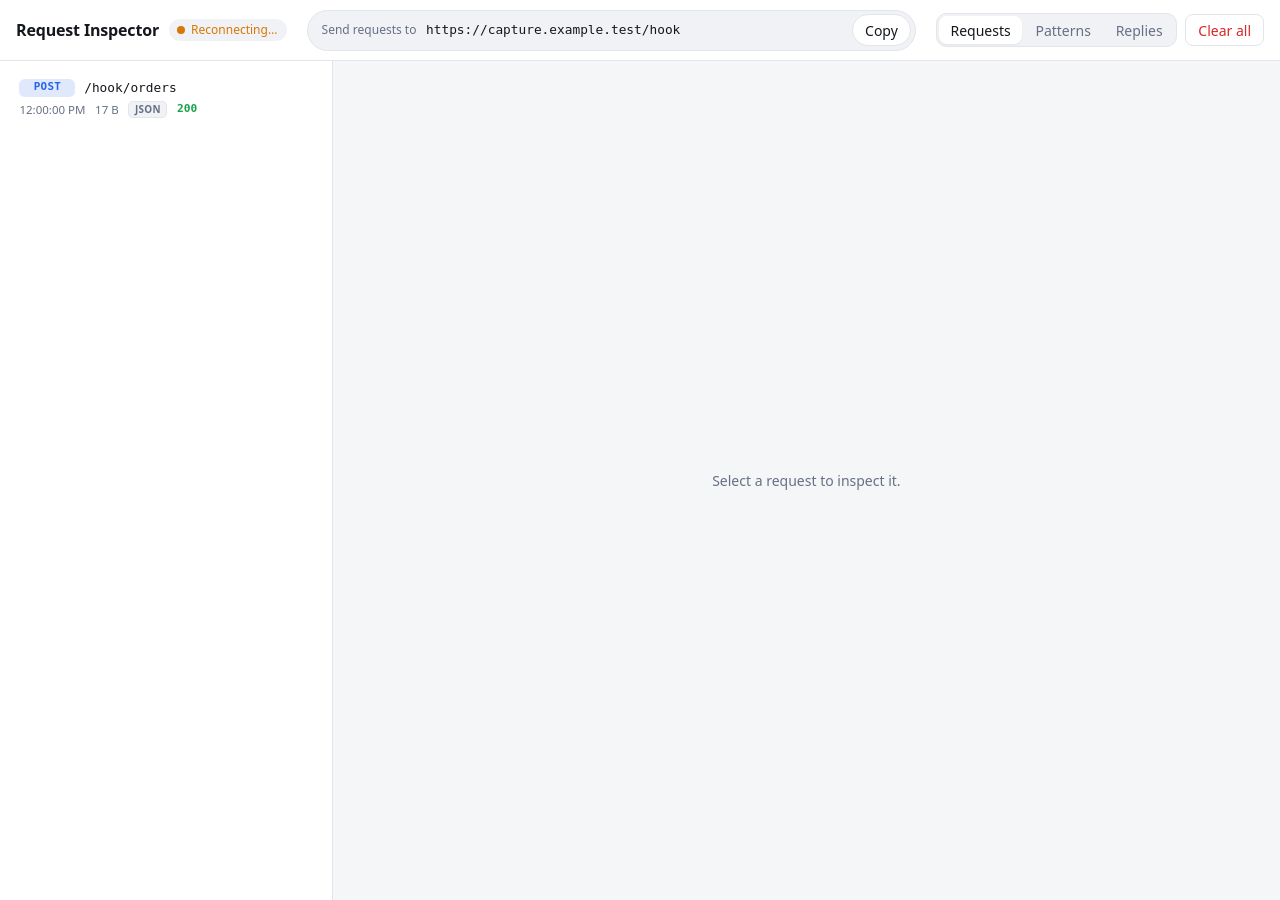
request list and detail › shows headers, query parameters and the body of the selected request
Click the text "/hook/orders": (130, 88) [84,78,177,97]
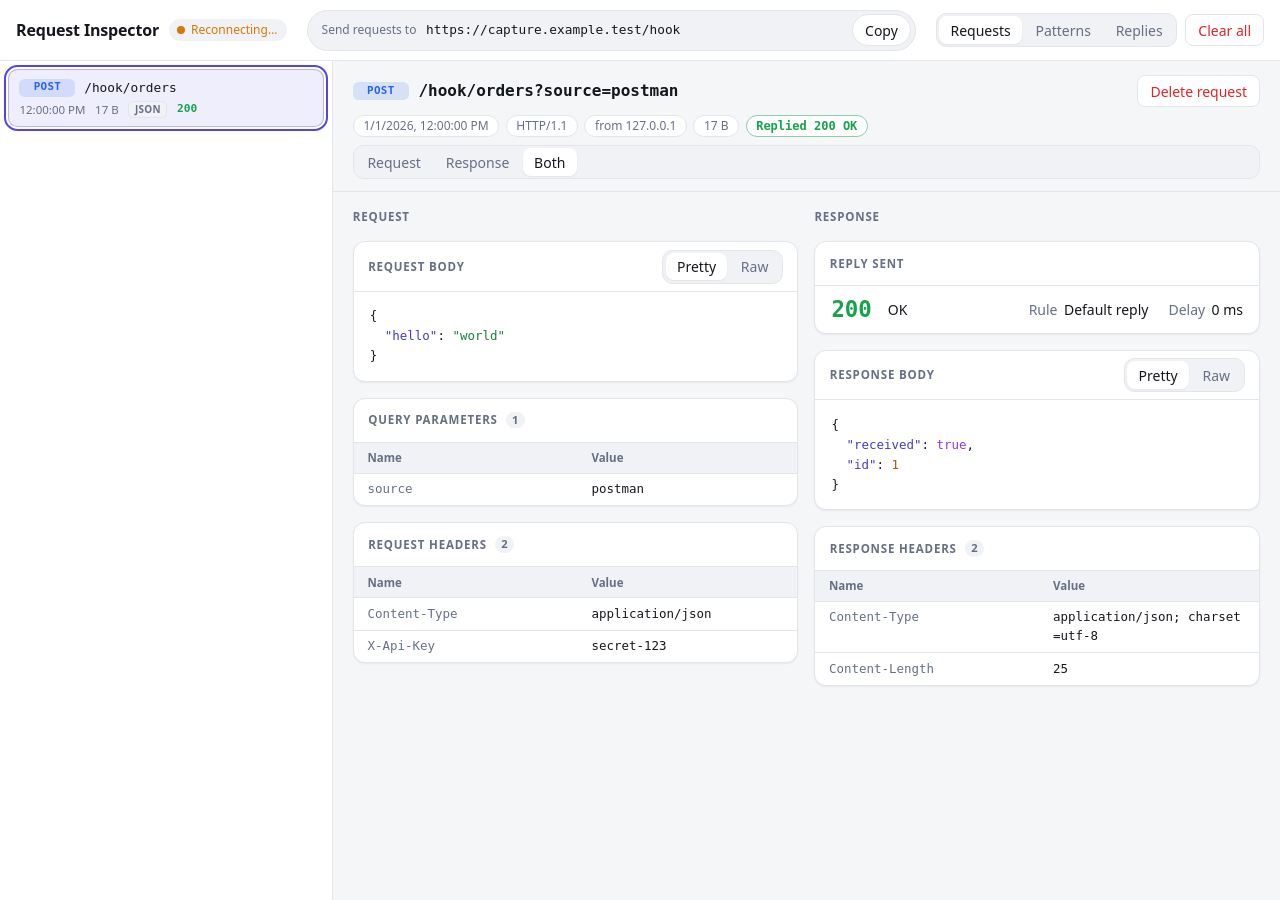
Expected: the text "X-Api-Key" is shown, [354,631,578,662]
Expected: the text "secret-123" is shown, [578,631,797,662]
Expected: the text "postman" is shown, [578,474,797,505]
